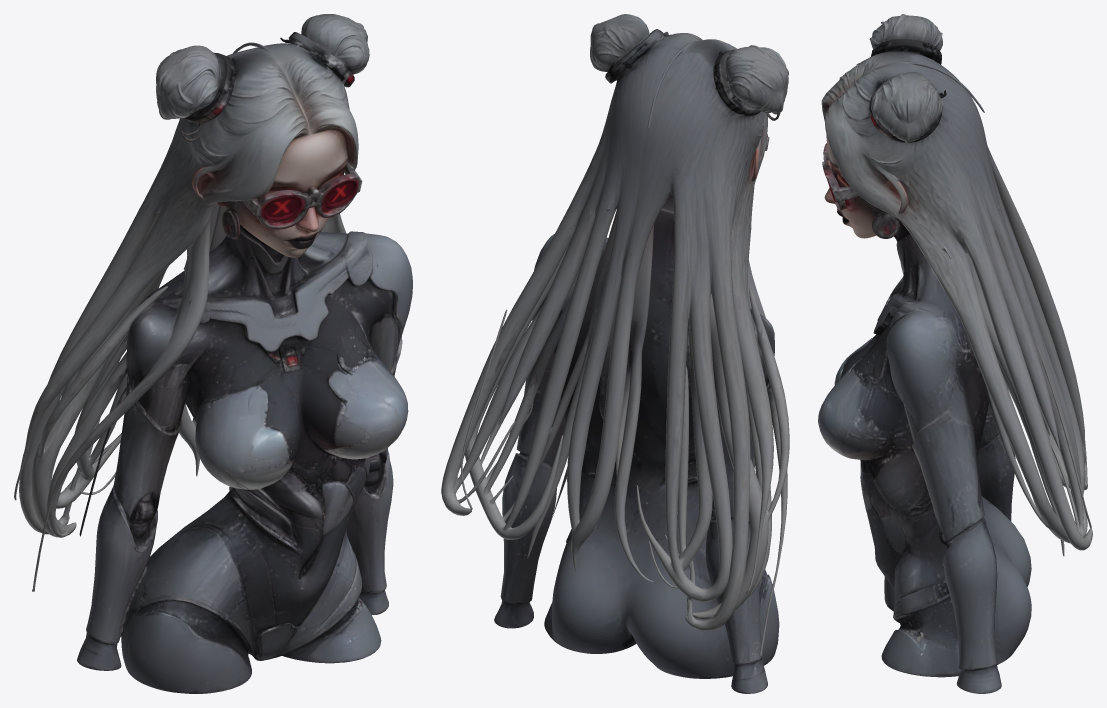
Rendered from singer.glb.
The picture shows the model from 3 angles, left to right: view 1: azimuth 30°, elevation 25°; view 2: azimuth 150°, elevation 25°; view 3: azimuth 270°, elevation 25°; orthographic projection. The views are drawn at different scales.
Parts seen in each view (by area): view 1: singer; view 2: singer; view 3: singer.
Part boxes in pixels (<box>): singer: <box>14,14,412,693</box>; singer: <box>441,14,789,693</box>; singer: <box>818,14,1092,693</box>.
Bounding box in the file's own units: 0.581 × 1.06 × 0.4597.
Materials: 1 (1 with a texture image).
